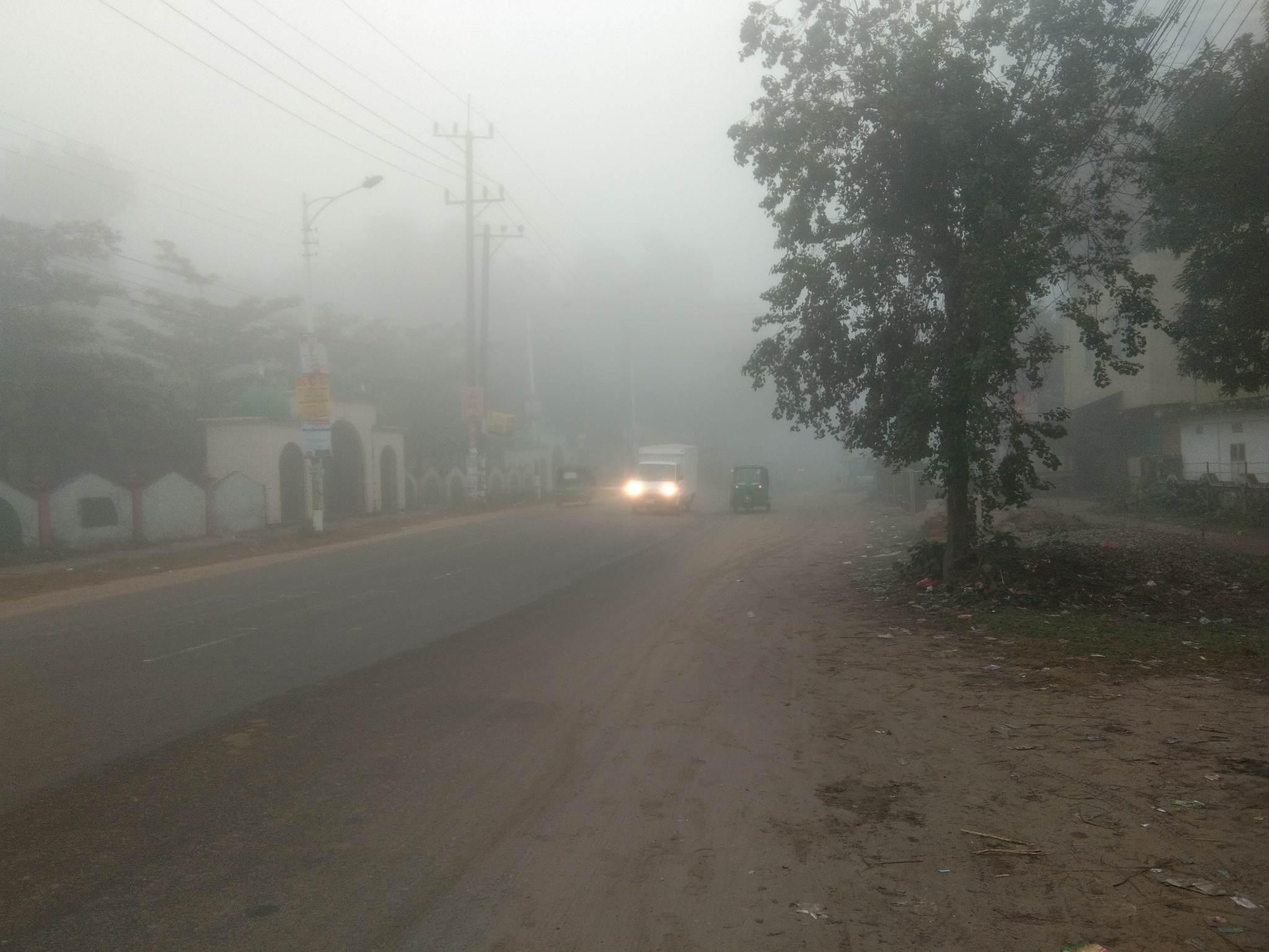Truck: (618, 433, 717, 522)
